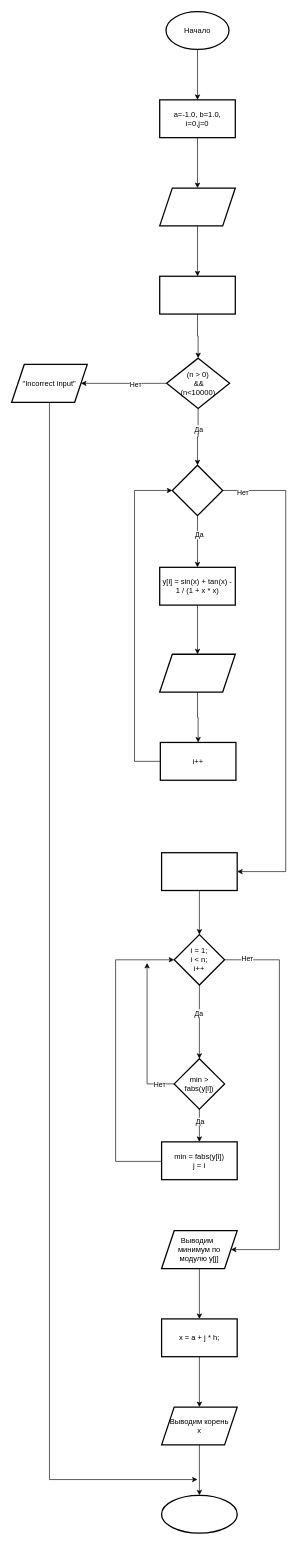
This 302x1544 diagram has some shape labels left out. The box of each missing label's shape, as (x1, y1, x2, y2) in pixels:
h = (b - a) / n: (159, 275, 236, 314)
min = fabs(y[0]): (161, 852, 238, 891)
x = a; x <= b; x = x + h: (171, 464, 223, 516)
Введите n: (159, 187, 236, 226)
Выводим y[i], х: (159, 653, 236, 692)
Конец: (161, 1494, 238, 1533)
